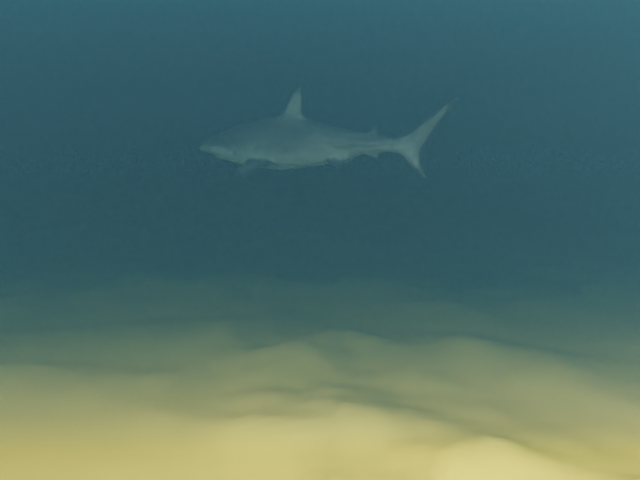Carribean Shark.001: (199, 86, 458, 179)
